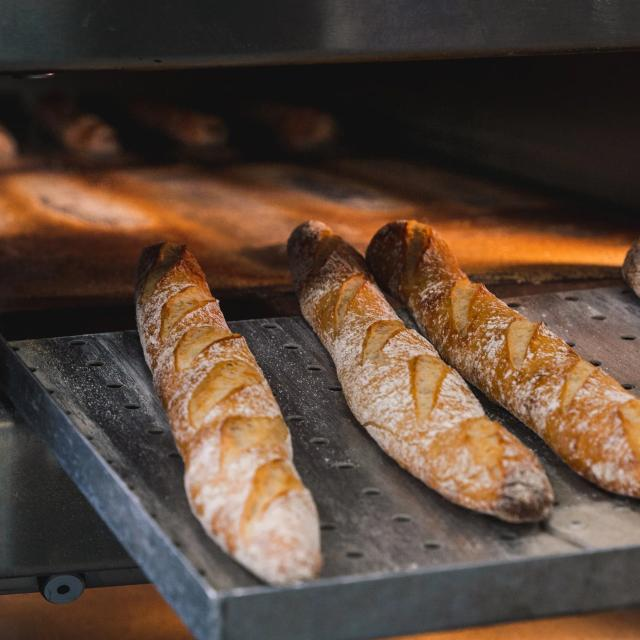Baguette: (288, 221, 553, 521), (366, 221, 640, 498), (137, 243, 322, 583)
